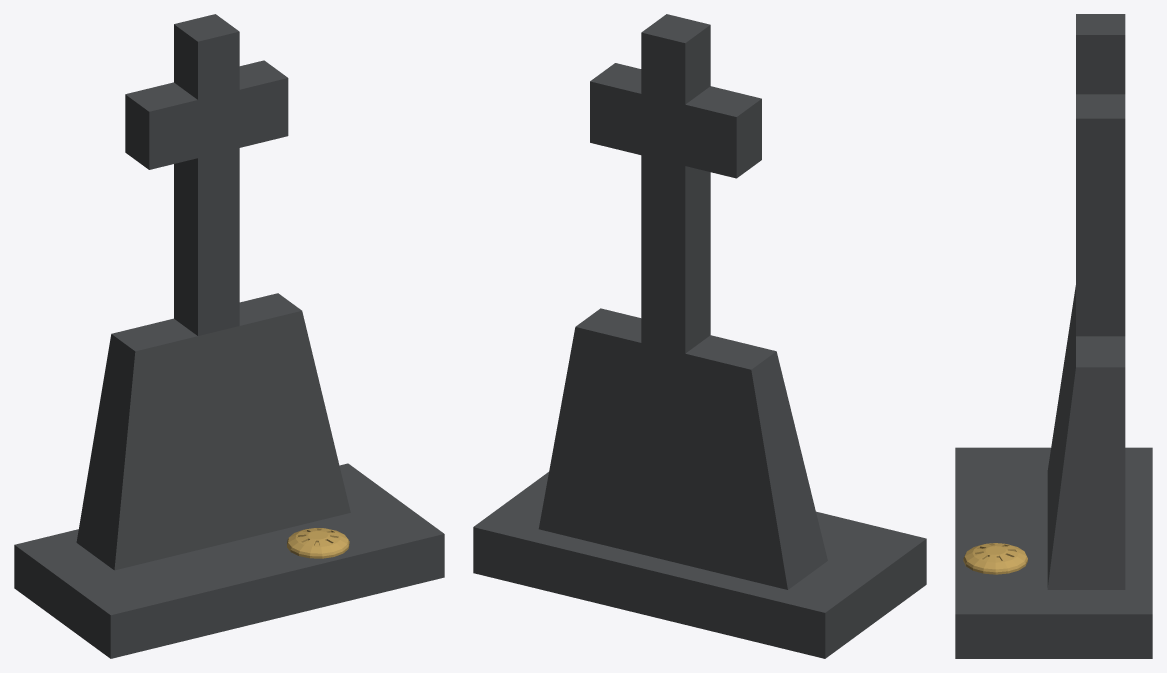
The model's file is NEW586_cross_memorial_LOD0.glb.
The picture shows the model from 3 angles, left to right: view 1: azimuth 30°, elevation 25°; view 2: azimuth 150°, elevation 25°; view 3: azimuth 270°, elevation 25°; orthographic projection. The views are drawn at different scales.
Visible parts, largest first — view 1: Splayed inscription die, Broad rectangular plinth, Coherent Latin cross, Single flower grille cap; view 2: Splayed inscription die, Broad rectangular plinth, Coherent Latin cross; view 3: Broad rectangular plinth, Splayed inscription die, Coherent Latin cross, Single flower grille cap.
Part boxes in pixels (x1=…): Splayed inscription die: x1=76, y1=293, x2=350, y2=570; Broad rectangular plinth: x1=14, y1=463, x2=444, y2=658; Coherent Latin cross: x1=125, y1=14, x2=288, y2=335; Single flower grille cap: x1=287, y1=528, x2=349, y2=558; Splayed inscription die: x1=538, y1=308, x2=827, y2=589; Broad rectangular plinth: x1=473, y1=472, x2=926, y2=658; Coherent Latin cross: x1=590, y1=14, x2=761, y2=353; Broad rectangular plinth: x1=955, y1=447, x2=1152, y2=658; Splayed inscription die: x1=1047, y1=285, x2=1125, y2=589; Coherent Latin cross: x1=1076, y1=14, x2=1125, y2=336; Single flower grille cap: x1=963, y1=543, x2=1027, y2=574.
Bounding box in the file's own units: 0.6096 × 0.9398 × 0.3048.
